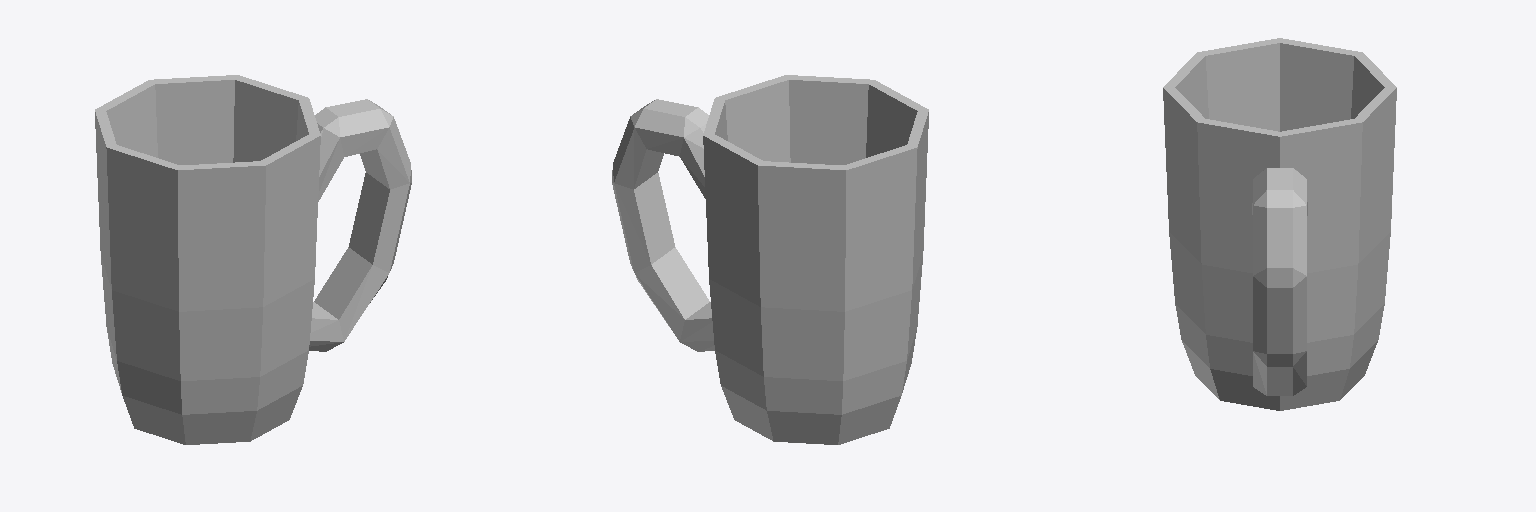
The model's file is sercups_mug.obj.
The picture shows the model from 3 angles: view 1: azimuth 30°, elevation 25°; view 2: azimuth 150°, elevation 25°; view 3: azimuth 270°, elevation 25°; orthographic projection.
Visible parts, largest first — view 1: sercups_mug_Cylinder.114; view 2: sercups_mug_Cylinder.114; view 3: sercups_mug_Cylinder.114.
Boxes of the visible parts, x1=… form: sercups_mug_Cylinder.114: x1=95, y1=75, x2=411, y2=444; sercups_mug_Cylinder.114: x1=612, y1=75, x2=928, y2=444; sercups_mug_Cylinder.114: x1=1163, y1=38, x2=1396, y2=410.
Size of the model in its own units: 2.95 by 2.74 by 2.